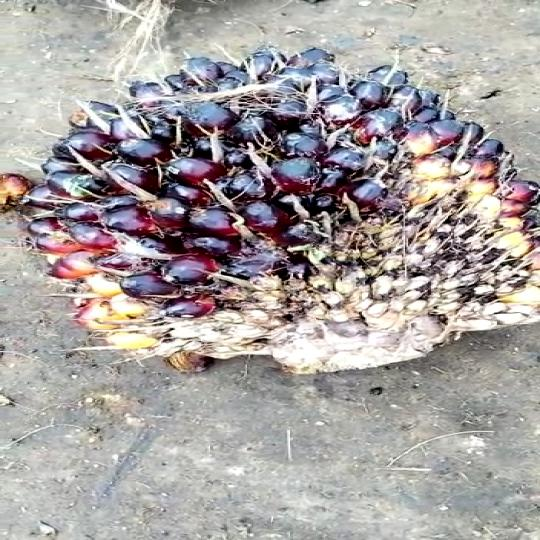mentah: (16, 42, 540, 373)
